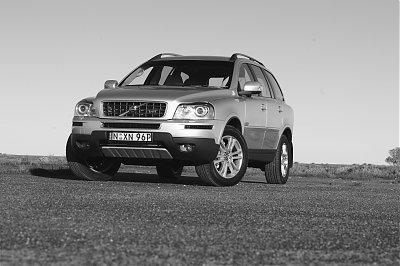car: (66, 54, 296, 186)
